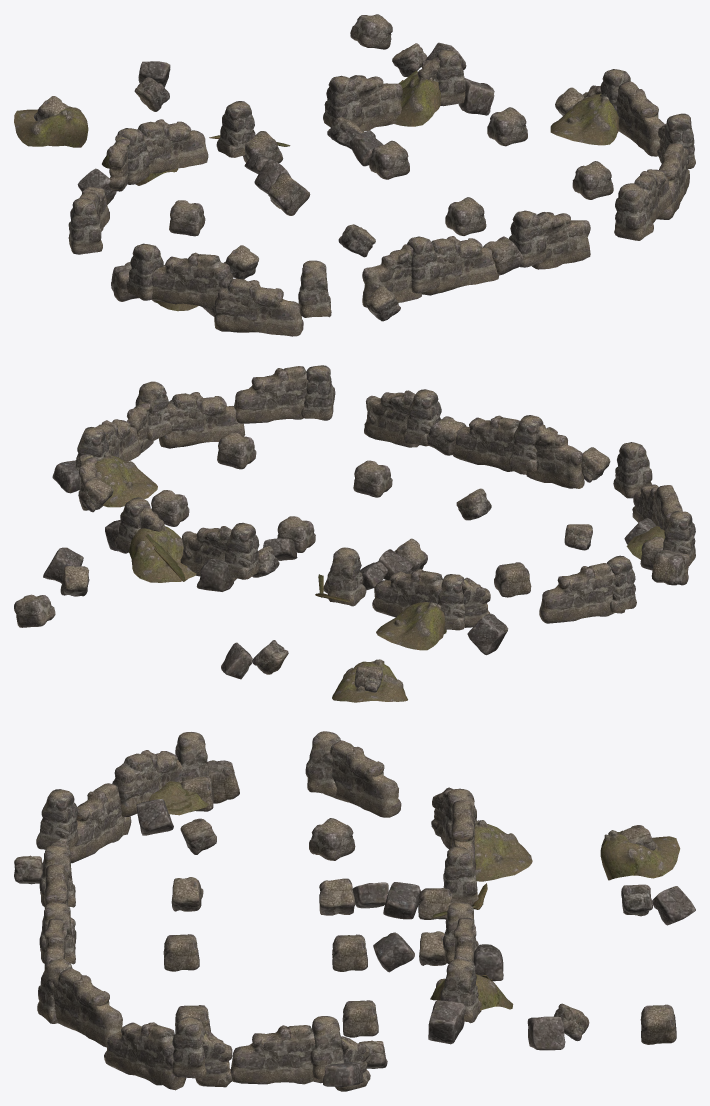
The model's file is TownHall_Ruin-transformed.glb.
The picture shows the model from 3 angles, top to bottom: view 1: azimuth 30°, elevation 25°; view 2: azimuth 150°, elevation 25°; view 3: azimuth 270°, elevation 25°; orthographic projection. The views are drawn at different scales.
Parts seen in each view (by area): view 1: default; view 2: default; view 3: default.
Part boxes in pixels (box(x1,y1,x2,y2)): default: box(14, 14, 695, 336); default: box(14, 365, 695, 702); default: box(14, 731, 695, 1091).
Size of the model in its own units: 21.78 by 2.59 by 20.29.
2 materials, 2 textured.
